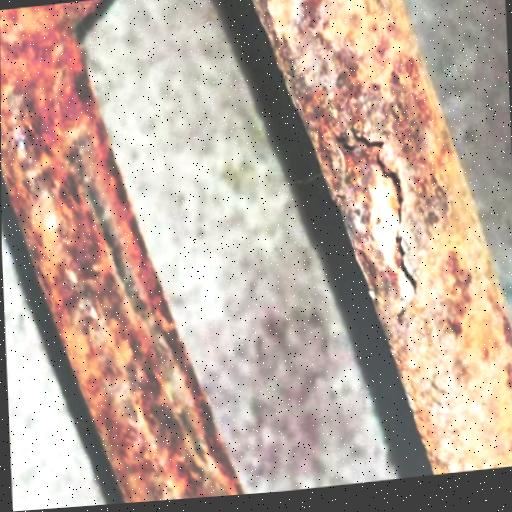corrosion: (253, 0, 512, 475), (0, 3, 245, 503)
